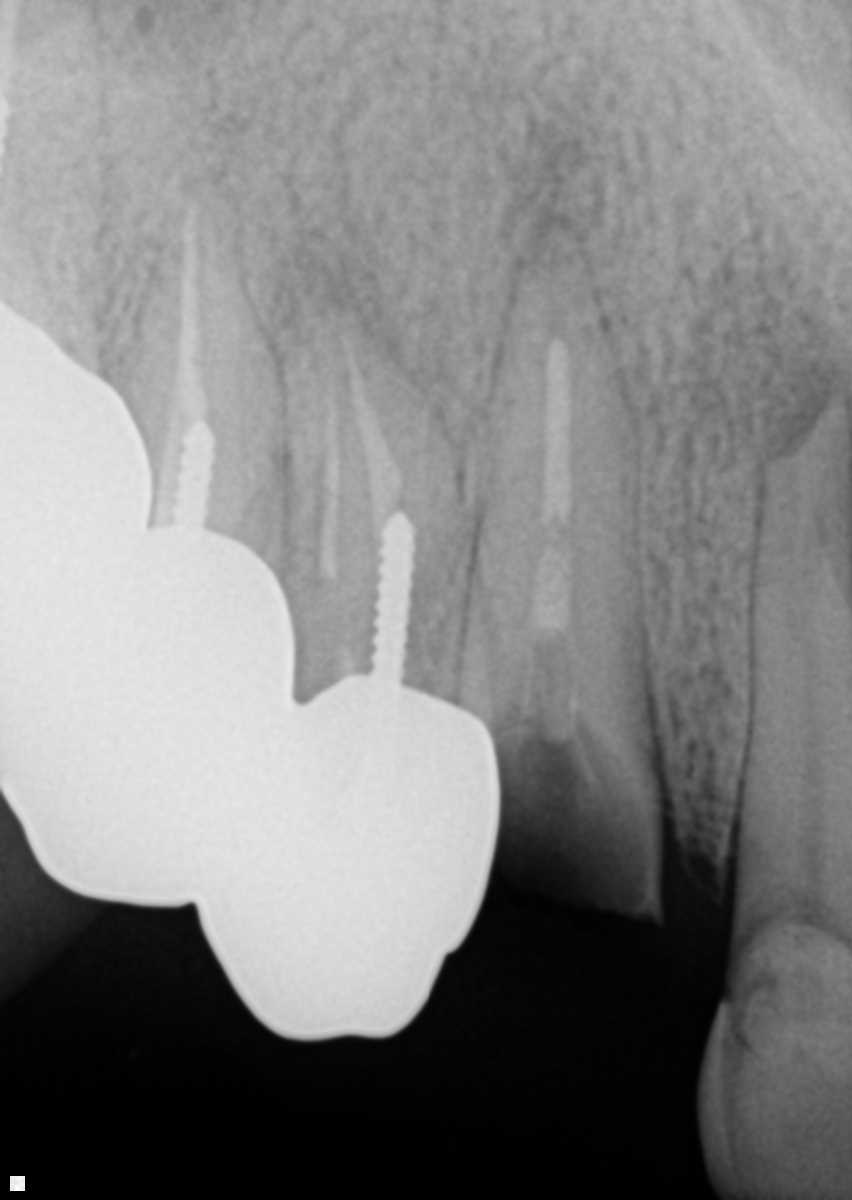Apical Lesion: (681, 299, 839, 478), (259, 239, 396, 364), (487, 148, 598, 267)
Main Canal: (792, 527, 821, 876)
Main Root: (450, 223, 659, 776), (283, 304, 496, 715), (121, 188, 287, 565), (735, 381, 852, 877)
Root Canal Filling: (149, 206, 211, 539), (528, 330, 578, 633), (341, 324, 405, 537), (315, 372, 340, 585)
decay: (491, 719, 645, 901)
